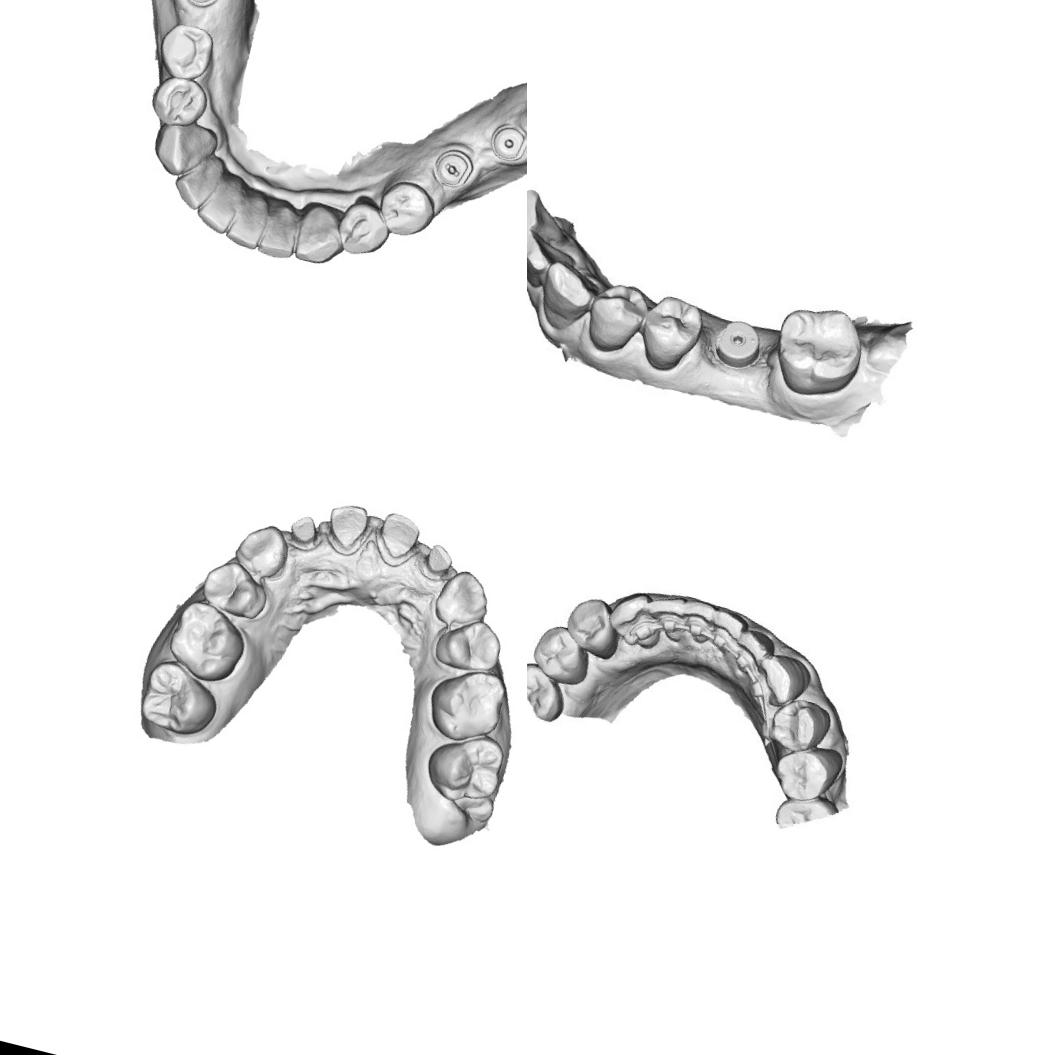canine: (145, 113, 222, 184), (534, 257, 598, 337), (226, 514, 296, 586), (428, 562, 498, 634), (288, 197, 353, 270), (748, 651, 812, 711), (602, 586, 662, 645)
crown: (368, 504, 428, 572), (318, 494, 374, 560), (417, 536, 459, 582), (283, 510, 324, 552)
implant: (710, 313, 768, 375), (482, 116, 527, 167)
implant_minus: (427, 142, 478, 192), (177, 0, 226, 12)
incisor: (166, 148, 225, 216), (190, 169, 246, 238), (255, 195, 305, 262), (527, 227, 578, 292), (224, 186, 271, 250), (527, 183, 574, 246), (704, 597, 753, 657), (640, 586, 689, 639), (674, 594, 721, 647), (732, 624, 781, 670)
molar: (767, 299, 866, 396), (417, 659, 513, 751), (160, 594, 252, 689), (418, 723, 510, 812), (134, 655, 226, 743)
premolar: (580, 274, 657, 360), (194, 553, 276, 624), (636, 288, 706, 370), (430, 610, 508, 678), (369, 173, 441, 244), (764, 688, 836, 758), (152, 18, 220, 86), (144, 69, 213, 135), (332, 194, 396, 261), (772, 746, 834, 804), (528, 625, 588, 682), (565, 598, 620, 652)
